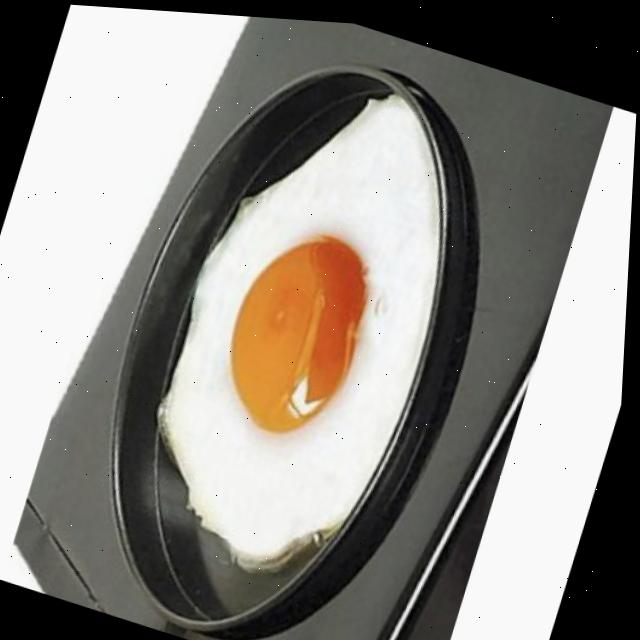鸡蛋料理: (64, 5, 574, 640)
